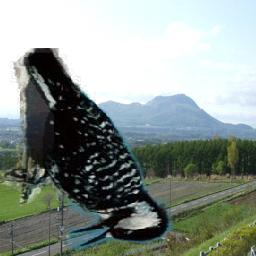Woodpecker: (2, 48, 176, 250)
